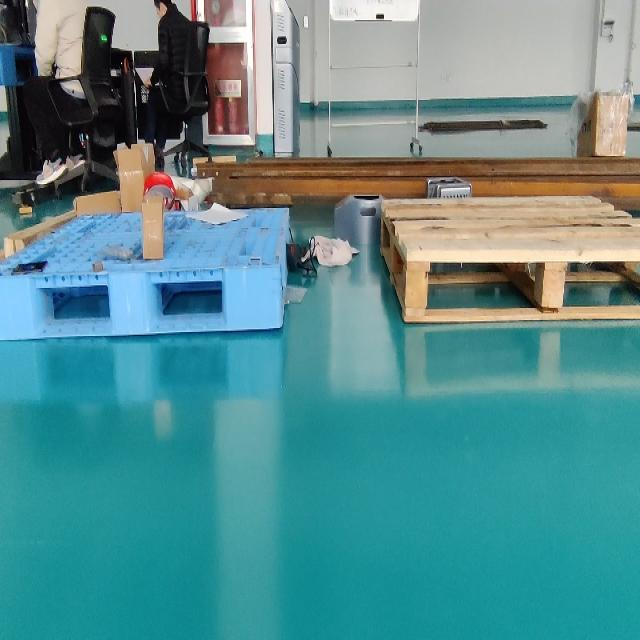euro: (379, 196, 640, 329)
